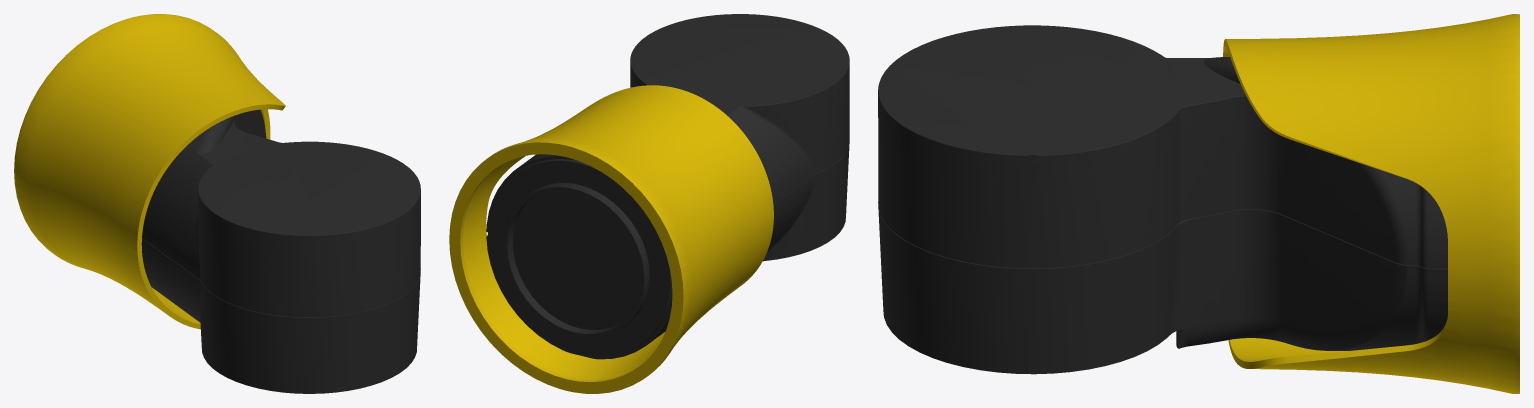
Rendered from armr3.glb.
3 renders of one model, left to right at view 1: azimuth 30°, elevation 25°; view 2: azimuth 150°, elevation 25°; view 3: azimuth 270°, elevation 25°, orthographic. The views are drawn at different scales.
Parts seen in each view (by area): view 1: right_j3; view 2: right_j3; view 3: right_j3.
Boxes of the visible parts, x1=… form: right_j3: x1=14, y1=14, x2=420, y2=393; right_j3: x1=449, y1=14, x2=849, y2=393; right_j3: x1=878, y1=14, x2=1519, y2=393.
Bounding box in the file's own units: 0.106 × 0.106 × 0.179.
